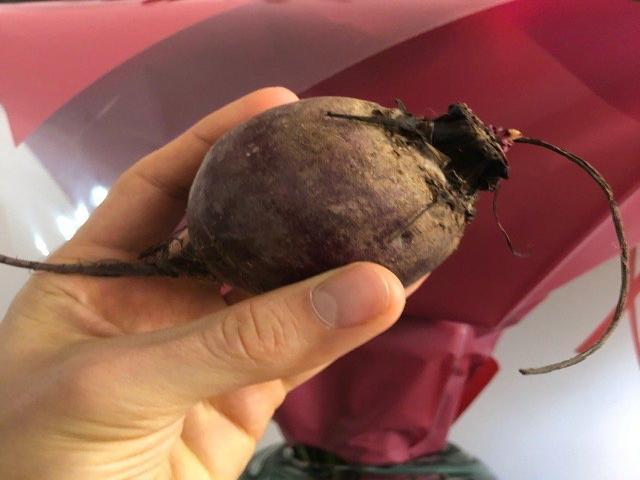beet: (2, 96, 630, 374)
